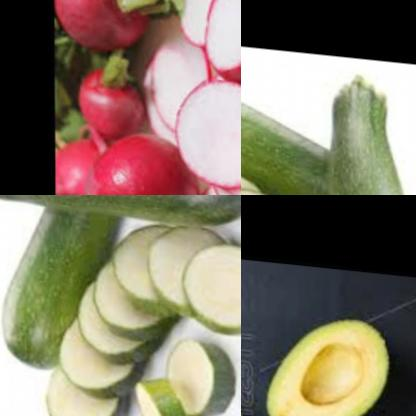avocado: (248, 287, 413, 416)
rediska: (140, 33, 241, 191), (84, 119, 198, 195), (71, 57, 141, 139), (175, 0, 241, 85), (53, 0, 145, 49), (54, 127, 114, 195)
vegetable marrow: (0, 195, 197, 383), (241, 68, 416, 195), (320, 60, 411, 195), (139, 217, 230, 316), (0, 195, 241, 231), (63, 276, 151, 370), (47, 322, 130, 405), (97, 219, 177, 304), (171, 235, 241, 331), (84, 263, 168, 338), (172, 330, 239, 416), (27, 367, 129, 416), (117, 357, 199, 416)
